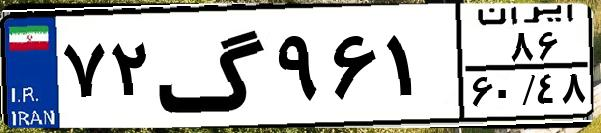0: (495, 70, 520, 125)
1: (385, 28, 445, 110)
2: (110, 28, 156, 98)
4: (535, 70, 560, 125)
6: (330, 28, 385, 110), (537, 27, 568, 80), (470, 70, 495, 125)
7: (57, 26, 110, 100)
8: (560, 70, 590, 125), (508, 27, 537, 80)
9: (270, 28, 330, 110)
گ: (156, 12, 270, 120)
